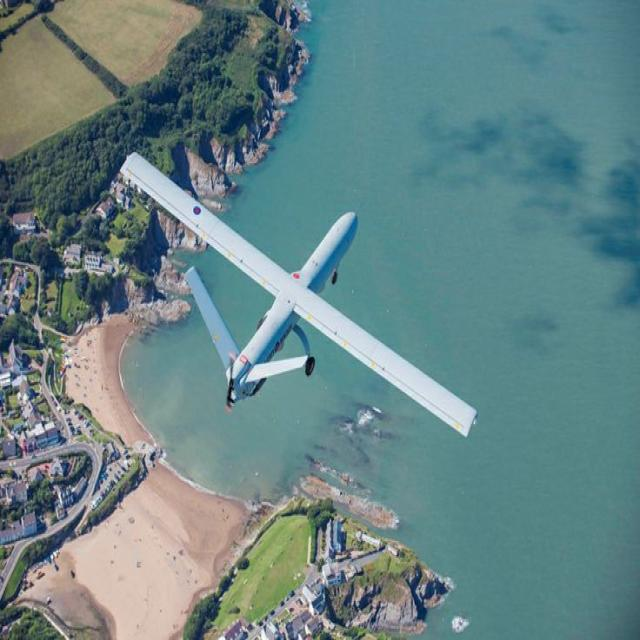iha: (118, 146, 479, 444)
